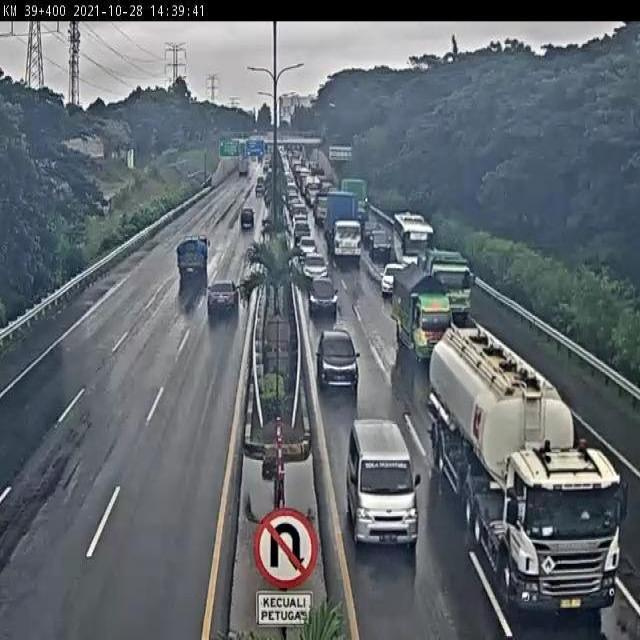car: (344, 415, 421, 549), (314, 330, 359, 386), (205, 283, 238, 316), (308, 279, 339, 313), (380, 261, 407, 296), (302, 252, 327, 281), (367, 228, 390, 257), (236, 205, 257, 232)
truck: (430, 321, 620, 615), (392, 265, 454, 352), (419, 246, 472, 306), (325, 187, 361, 259), (389, 212, 429, 265), (177, 233, 210, 275)
